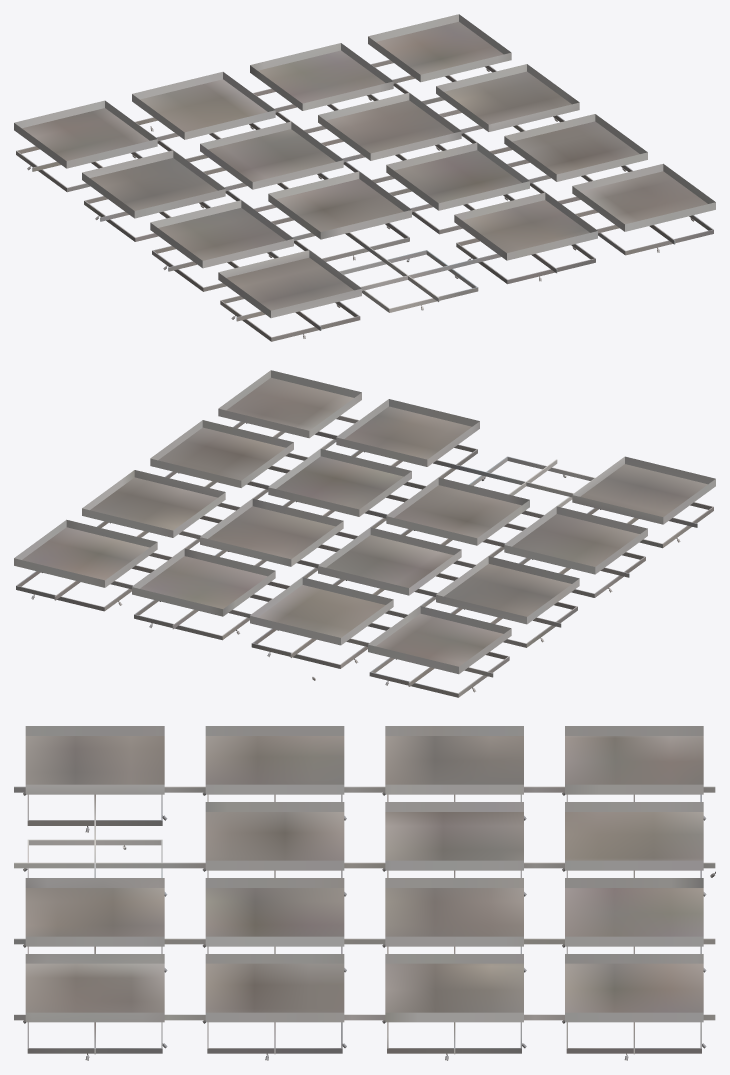
Rendered from ceiling.glb.
The picture shows the model from 3 angles, top to bottom: view 1: azimuth 30°, elevation 25°; view 2: azimuth 150°, elevation 25°; view 3: azimuth 270°, elevation 25°; orthographic projection. The views are drawn at different scales.
Visible parts, largest first — view 1: ceiling; view 2: ceiling; view 3: ceiling.
Boxes of the visible parts, bbox=[...] form: ceiling: bbox=[14, 14, 715, 341]; ceiling: bbox=[14, 370, 715, 697]; ceiling: bbox=[14, 726, 715, 1060].
Bounding box in the file's own units: 48.8 × 4.65 × 48.83.
1 material, 1 textured.
